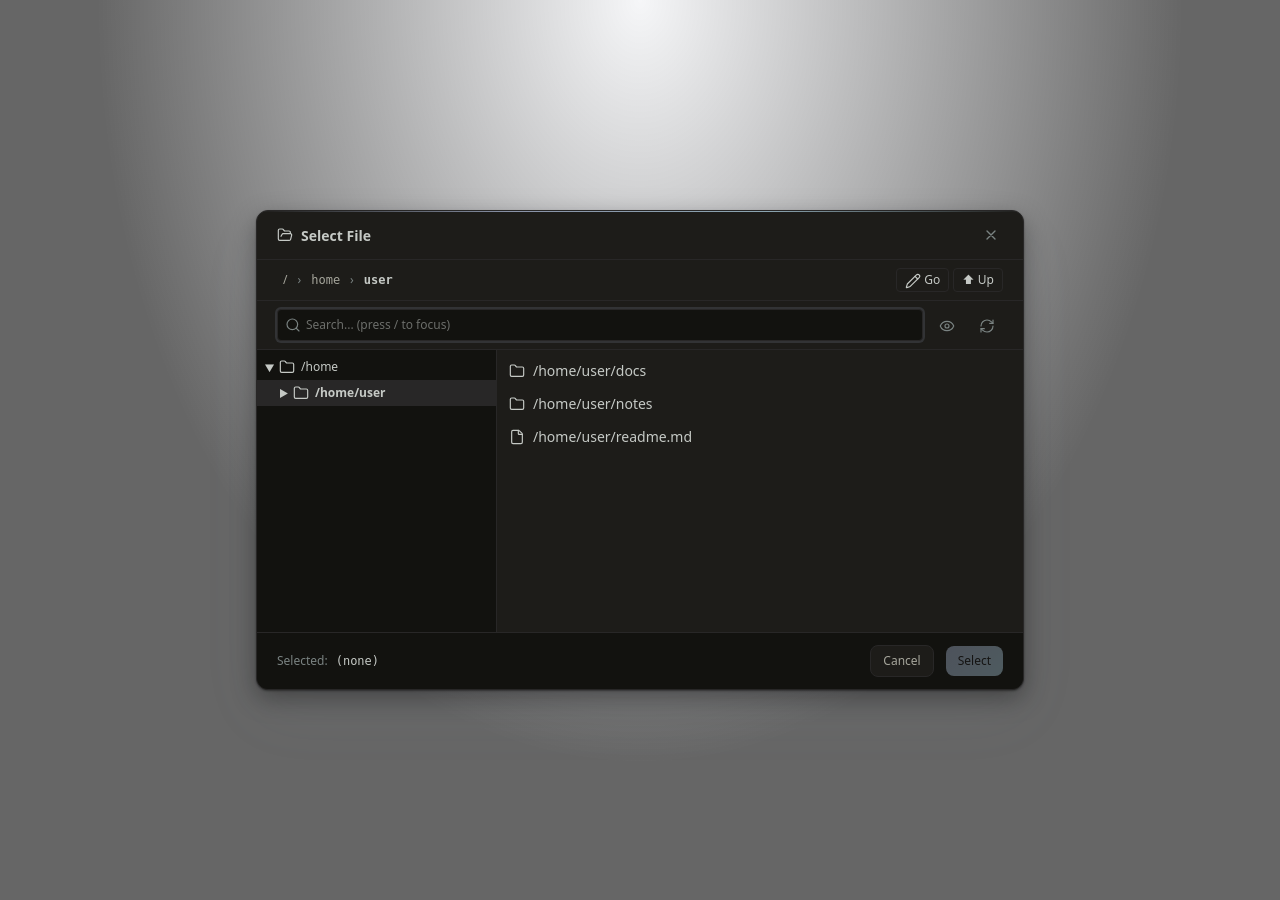
FilePickerDialog — selection (file mode) › clicking a folder in file mode NAVIGATES INTO it (does not select)
Click the button with test id "file-picker-item-/home/user/notes": (593, 404) [497,387,1023,420]
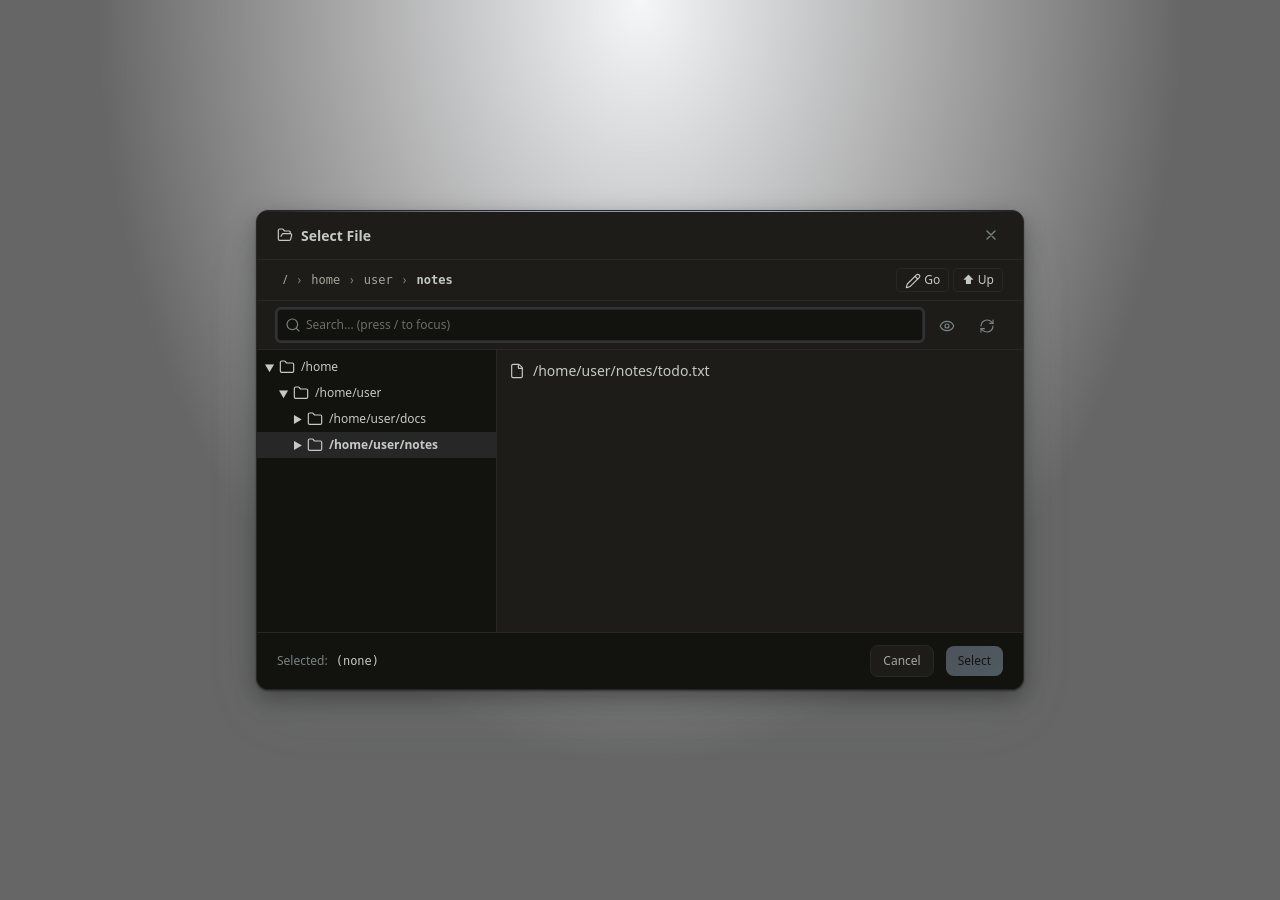
Expected: the text with test id "file-picker-selected-path" reads "(none)", [336,654,379,668]
Result: the button with test id "file-picker-item-/home/user/notes/todo.txt" is shown at [497,354,1023,387]
